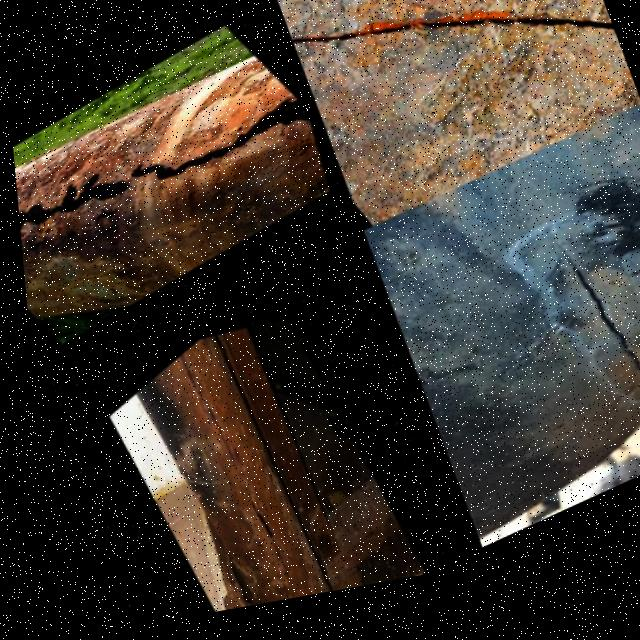crack: (162, 350, 288, 609), (540, 255, 640, 404), (286, 19, 610, 59)
hole: (117, 114, 241, 214), (34, 144, 147, 239), (227, 90, 316, 173), (14, 186, 68, 251), (89, 201, 121, 228), (53, 220, 82, 245)
